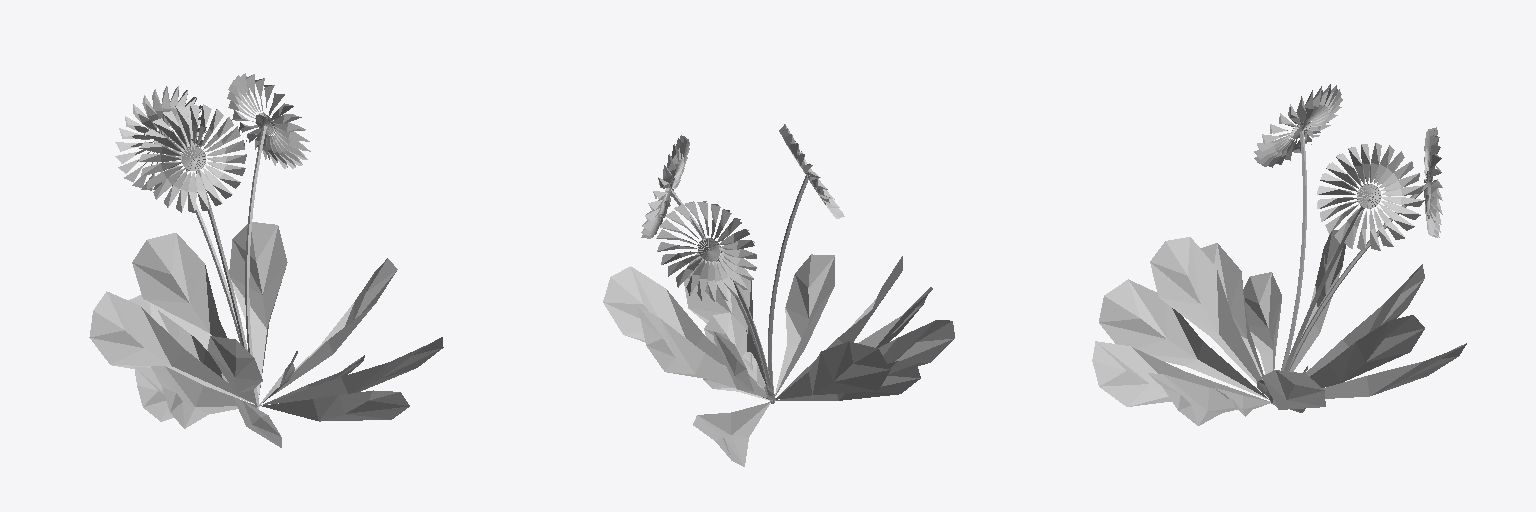
The model's file is freeflowerpsr1.obj.
3 renders of one model, left to right at view 1: azimuth 30°, elevation 25°; view 2: azimuth 150°, elevation 25°; view 3: azimuth 270°, elevation 25°, orthographic.
Parts seen in each view (by area): view 1: freeflowerpsr1; view 2: freeflowerpsr1; view 3: freeflowerpsr1.
Part boxes in pixels (x1,y1,x2,y2): freeflowerpsr1: (89,73,443,447); freeflowerpsr1: (603,124,954,466); freeflowerpsr1: (1092,84,1466,425).
Bounding box in the file's own units: 93.17 × 91.84 × 105.